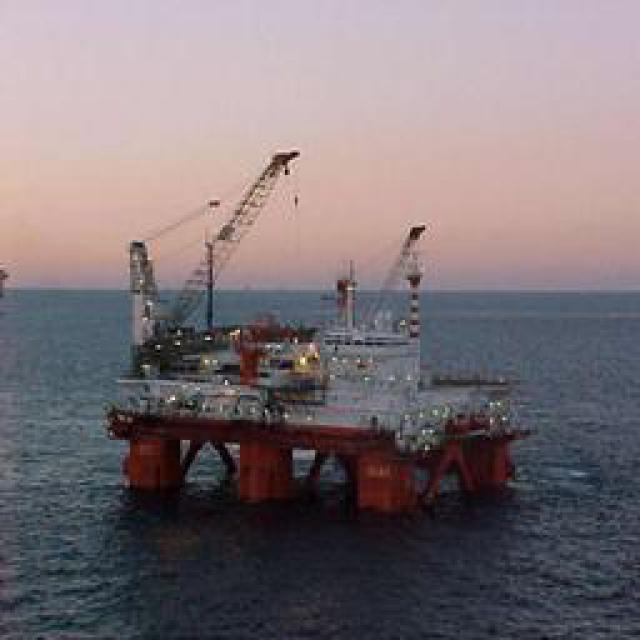Ship: (111, 177, 534, 525)
